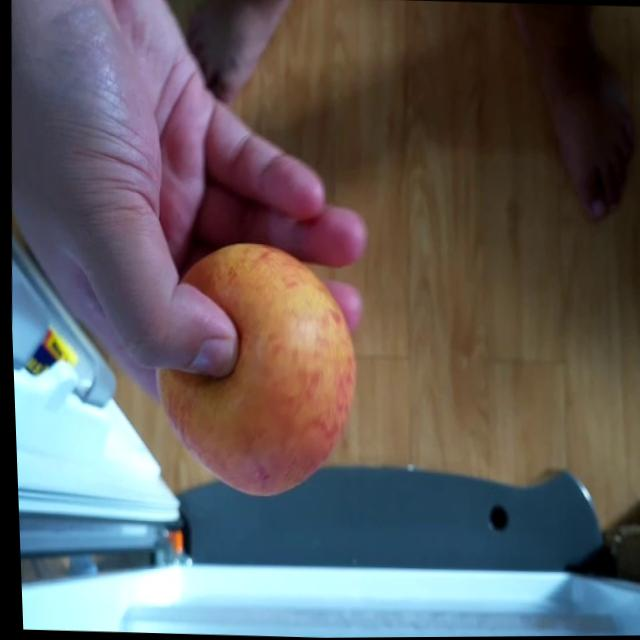apple: (143, 234, 359, 502)
